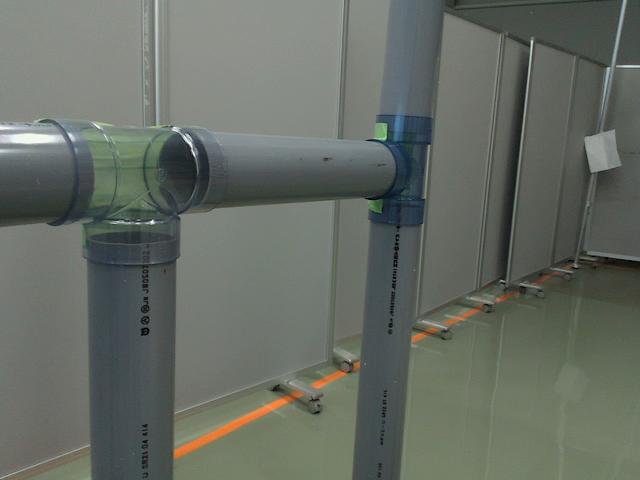junction: (33, 122, 229, 264), (362, 118, 434, 227)
